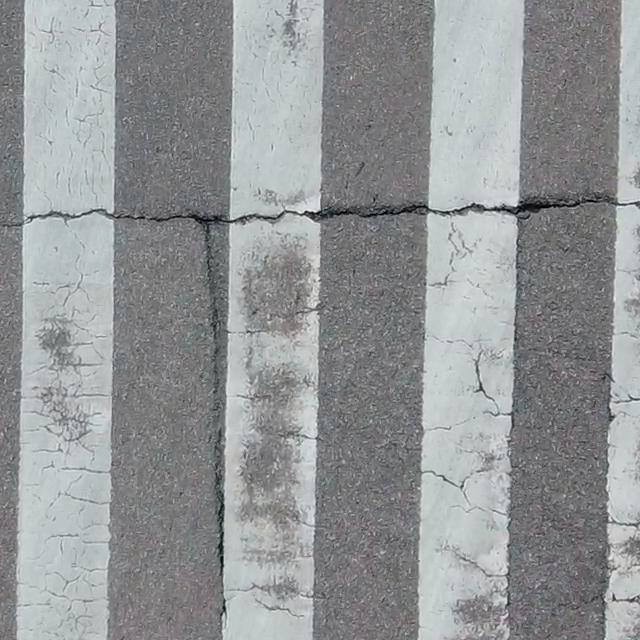GRIETA: (0, 193, 639, 231), (202, 229, 229, 639)
PIEL DE COCODRILO: (18, 262, 107, 639), (415, 331, 523, 639)
